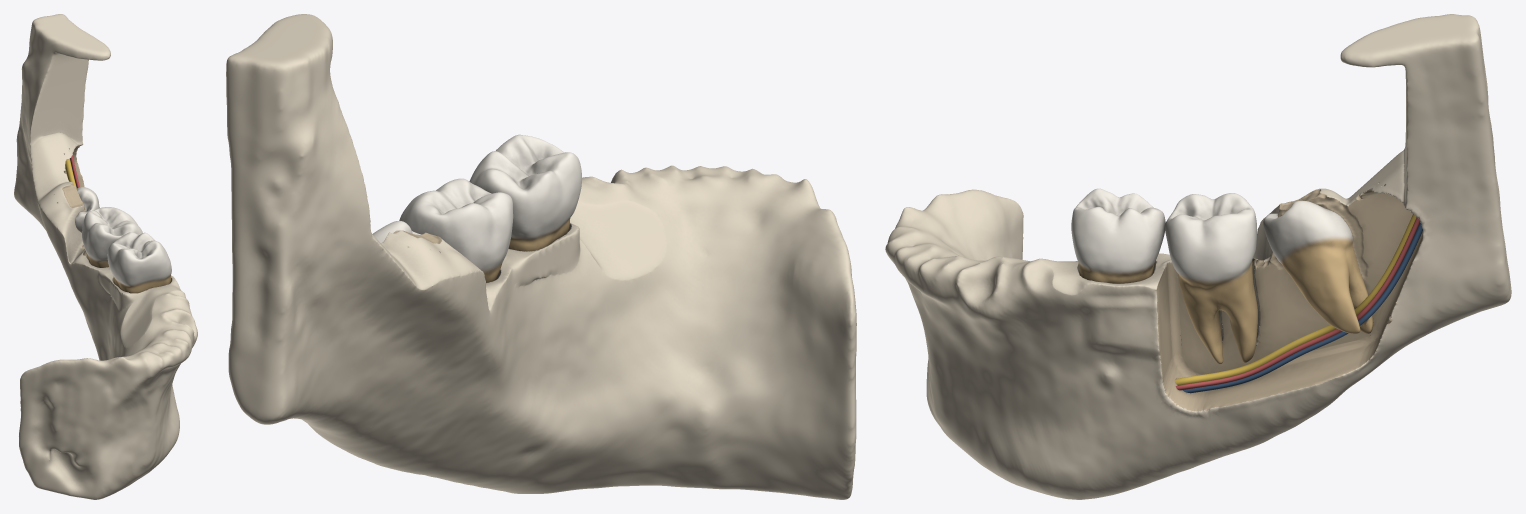
File: impacted-molar-2026-11.glb
3 views of the same model, side by side, from view 1: azimuth 30°, elevation 25°; view 2: azimuth 150°, elevation 25°; view 3: azimuth 270°, elevation 25° (orthographic). The views are drawn at different scales.
Visible parts, largest first — view 1: mandible, tooth_36_enamel, tooth_37_enamel, mandible_cut_faces, tooth_38_enamel, tooth_36_root; view 2: mandible, tooth_36_enamel, tooth_37_enamel; view 3: mandible, mandible_cut_faces, tooth_37_enamel, tooth_36_enamel, tooth_38_root, tooth_37_root, tooth_38_enamel, nerve, artery, vein.
Boxes of the visible parts, x1,y1,x2,y2 form: mandible: (14, 14, 197, 499); tooth_36_enamel: (107, 232, 171, 287); tooth_37_enamel: (82, 207, 142, 263); mandible_cut_faces: (62, 145, 86, 256); tooth_38_enamel: (75, 187, 99, 232); tooth_36_root: (113, 276, 170, 293); mandible: (226, 14, 856, 499); tooth_36_enamel: (469, 134, 581, 241); tooth_37_enamel: (399, 178, 513, 274); mandible: (885, 14, 1511, 499); mandible_cut_faces: (1156, 189, 1423, 411); tooth_37_enamel: (1165, 193, 1256, 284); tooth_36_enamel: (1071, 188, 1165, 276); tooth_38_root: (1283, 242, 1373, 333); tooth_37_root: (1178, 260, 1257, 363); tooth_38_enamel: (1263, 200, 1352, 265); nerve: (1174, 214, 1416, 385); artery: (1175, 217, 1420, 390); vein: (1182, 222, 1422, 393).
Bounding box in the file's own units: 0.0422 × 0.0637 × 0.0739.
